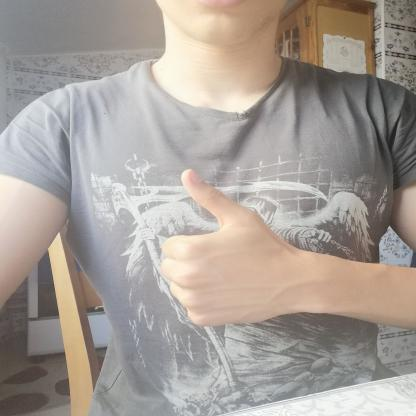ALIF: (140, 159, 314, 337)
